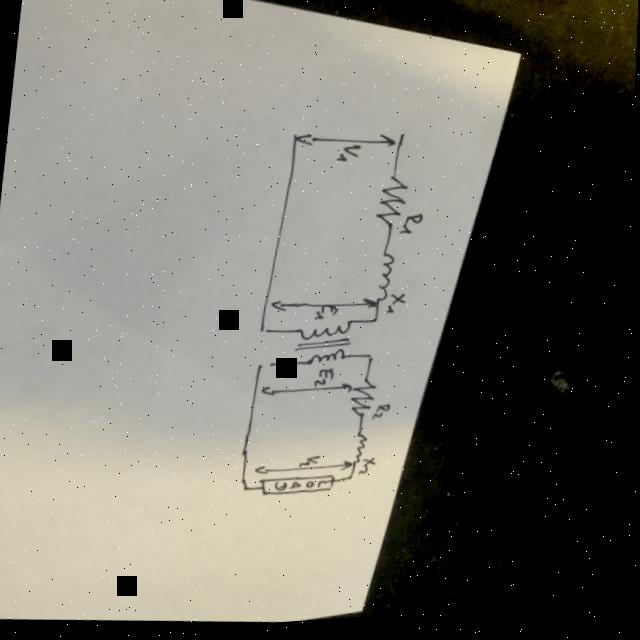inductor: (376, 255, 399, 307), (355, 436, 372, 467)
junction: (258, 362, 275, 373), (243, 485, 257, 495), (259, 328, 274, 337), (366, 356, 378, 366), (372, 318, 381, 327), (348, 478, 359, 485)
resistor: (262, 472, 339, 503), (375, 178, 412, 233), (352, 382, 381, 421)
terminal: (291, 132, 301, 150), (398, 134, 409, 144)
text: (277, 479, 335, 497), (400, 216, 426, 240), (337, 146, 364, 166), (316, 306, 342, 325), (388, 296, 410, 318), (316, 371, 338, 391), (302, 457, 326, 472), (375, 406, 394, 424), (362, 460, 380, 479)
transformer: (296, 319, 357, 372)
